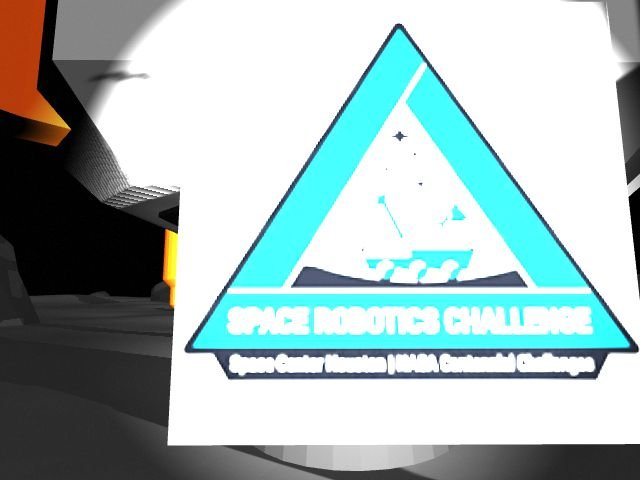basemarker: (184, 23, 639, 379)
